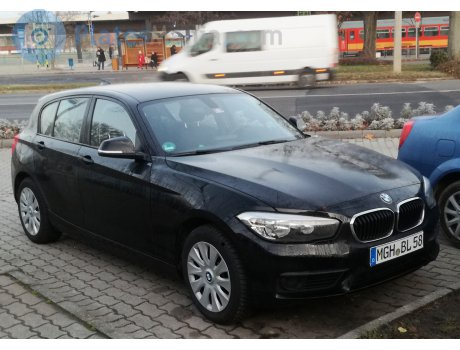License Plates: (375, 229, 421, 256)
